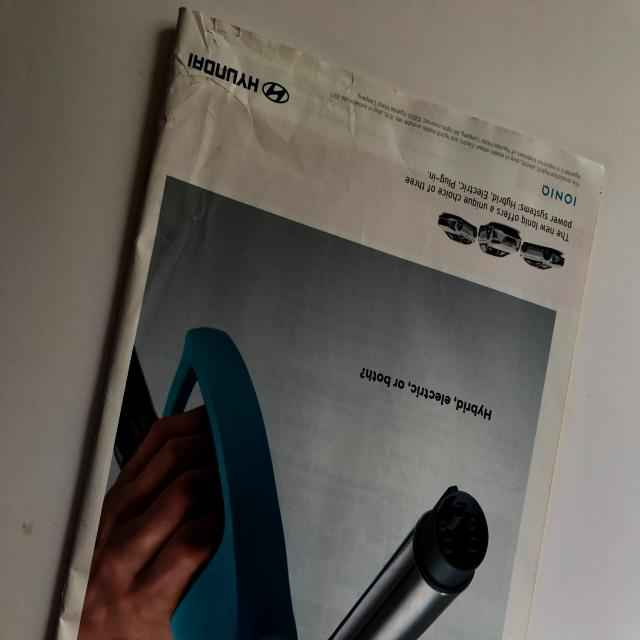Paper: (61, 0, 600, 640)
